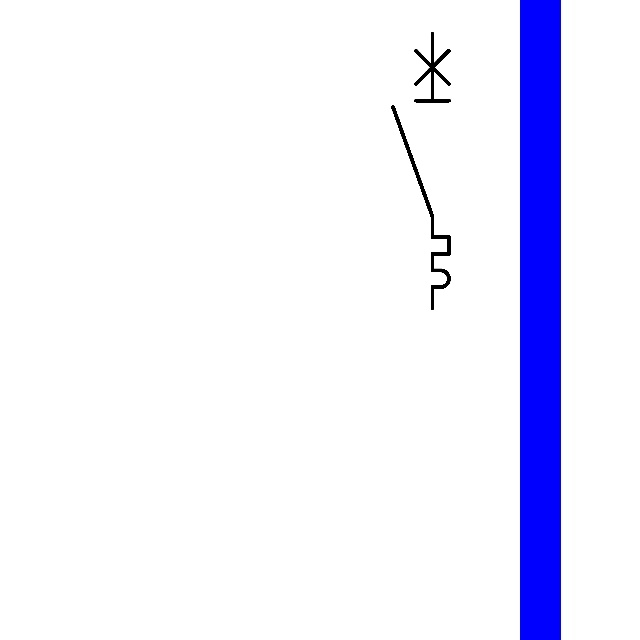interruptor_termomagnetico: (386, 27, 456, 315)
